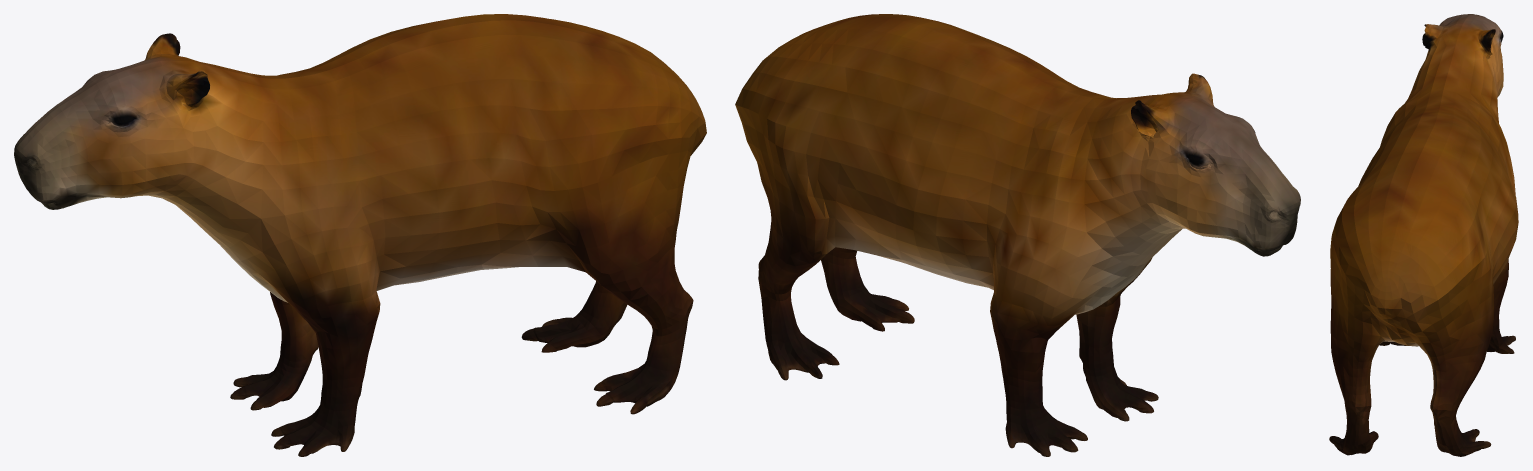
Rendered from capybara.mesh.glb.
The picture shows the model from 3 angles, left to right: view 1: azimuth 30°, elevation 25°; view 2: azimuth 150°, elevation 25°; view 3: azimuth 270°, elevation 25°; orthographic projection. The views are drawn at different scales.
Parts seen in each view (by area): view 1: root; view 2: root; view 3: root.
Boxes of the visible parts, x1=… form: root: x1=14, y1=14, x2=706, y2=456; root: x1=735, y1=14, x2=1300, y2=456; root: x1=1329, y1=14, x2=1518, y2=456.
Size of the model in its own units: 0.6957 by 0.4151 by 0.2491.
Materials: 1 (1 with a texture image).
